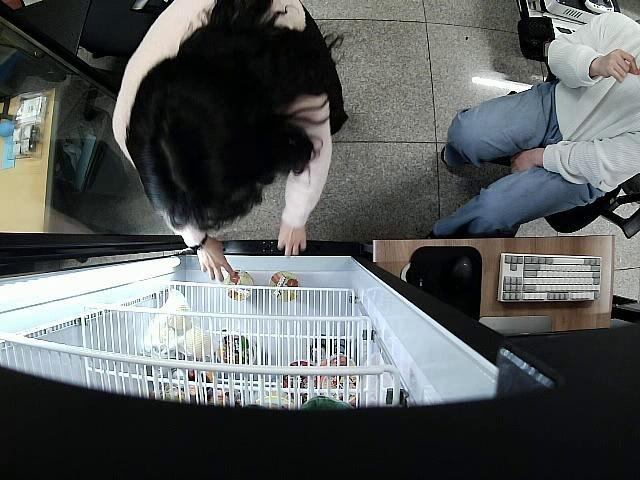04_chapagetti_S: (224, 270, 256, 303)
